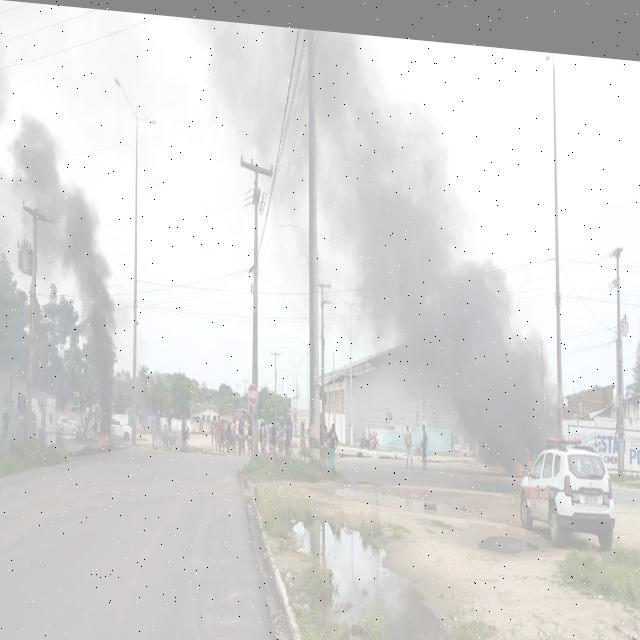Fire: (99, 430, 108, 448), (526, 446, 534, 461)
